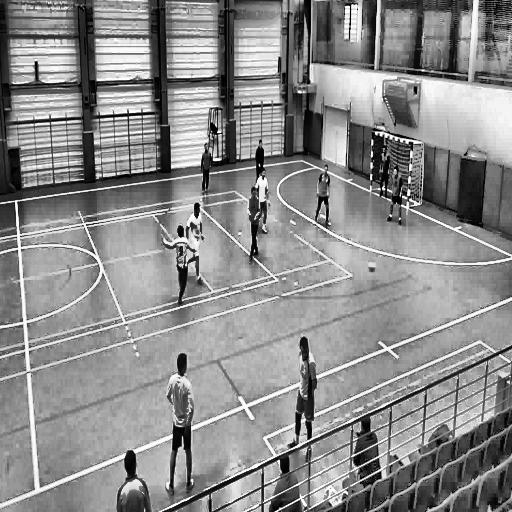ball: (369, 261, 378, 274)
